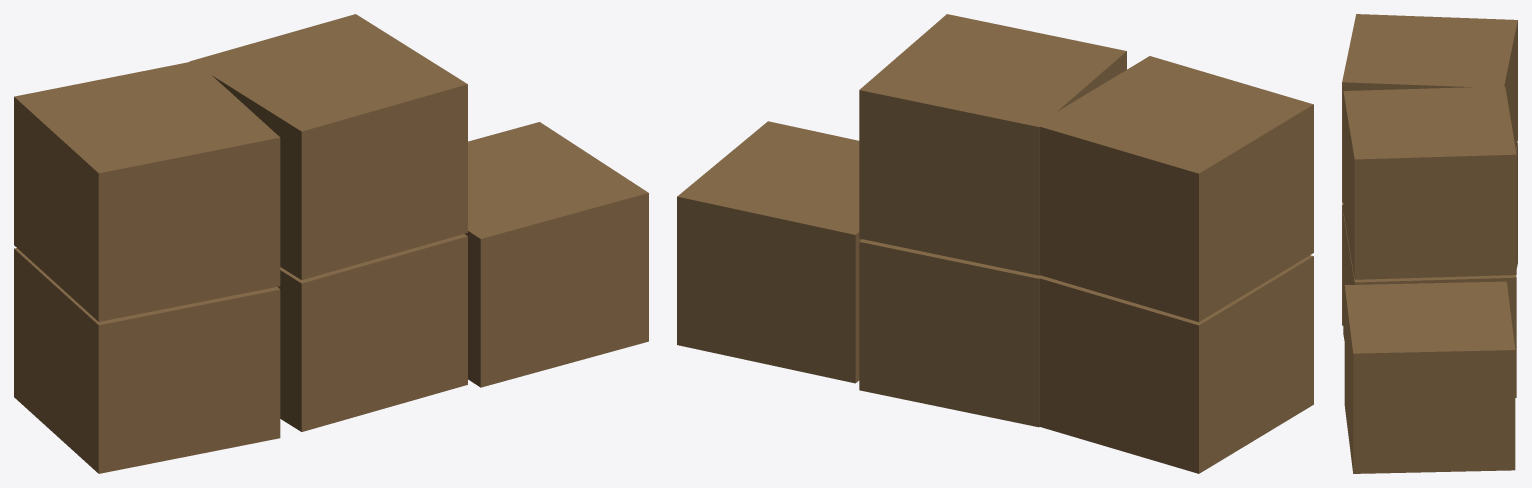
The model's file is CrateStack.fbx.
The picture shows the model from 3 angles, left to right: view 1: azimuth 30°, elevation 25°; view 2: azimuth 150°, elevation 25°; view 3: azimuth 270°, elevation 25°; orthographic projection. The views are drawn at different scales.
Visible parts, largest first — view 1: Crate01, Crate11, Crate00, Crate20, Crate10; view 2: Crate01, Crate11, Crate00, Crate20, Crate10; view 3: Crate11, Crate20, Crate01, Crate10, Crate00.
Part boxes in pixels (box(x1,y1,x2,y2)): Crate01: box(14, 61, 280, 321); Crate11: box(189, 14, 467, 279); Crate00: box(14, 248, 280, 473); Crate20: box(465, 122, 648, 387); Crate10: box(277, 234, 467, 431); Crate01: box(1035, 56, 1313, 321); Crate11: box(859, 14, 1126, 275); Crate00: box(1035, 255, 1313, 473); Crate20: box(677, 121, 861, 383); Crate10: box(859, 239, 1039, 427); Crate11: box(1343, 86, 1516, 279); Crate20: box(1344, 281, 1515, 473); Crate01: box(1342, 14, 1517, 202); Crate10: box(1343, 214, 1516, 397); Crate00: box(1342, 143, 1517, 325).
Bounding box in the file's own units: 347 × 119 × 182.
